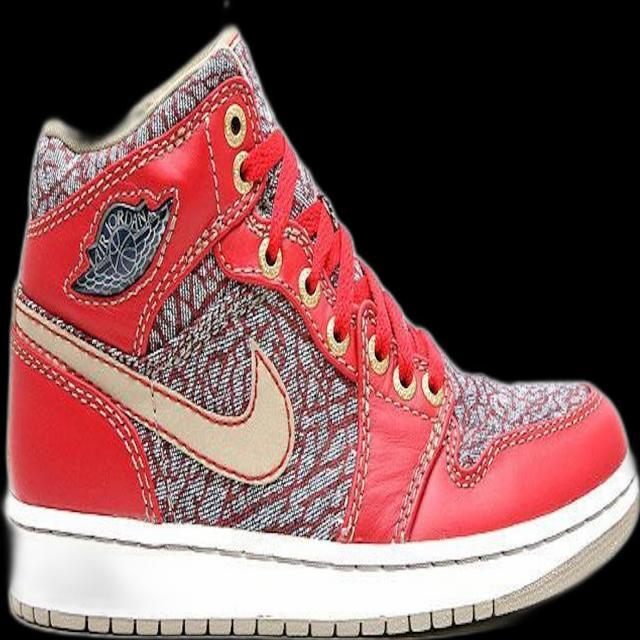J1_InsoleChar: (0, 22, 639, 639)
J1_ShoeLogo: (68, 194, 172, 298)
J1_StitchPattern: (7, 274, 602, 545), (2, 473, 638, 638), (8, 280, 296, 486), (9, 323, 161, 522), (4, 595, 497, 639), (441, 370, 602, 489), (337, 300, 378, 544), (387, 400, 455, 546)
